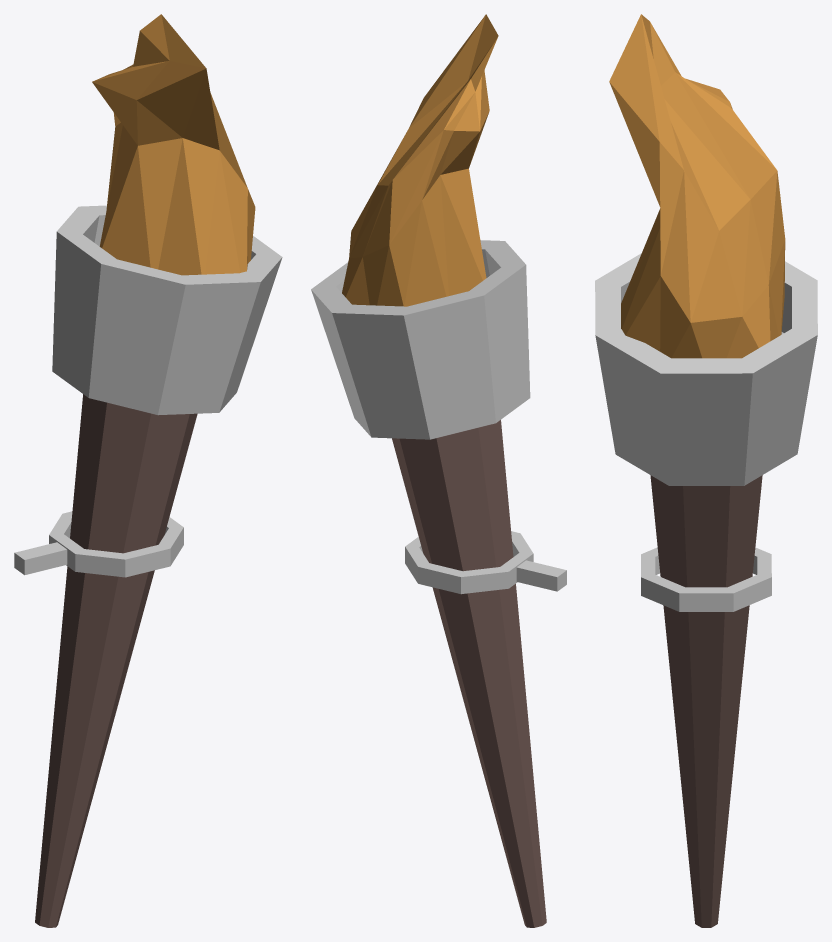
File: torch_mat.fbx
3 renders of one model, left to right at view 1: azimuth 30°, elevation 25°; view 2: azimuth 150°, elevation 25°; view 3: azimuth 270°, elevation 25°, orthographic. The views are drawn at different scales.
Parts seen in each view (by area): view 1: torch_mat; view 2: torch_mat; view 3: torch_mat.
Part boxes in pixels (<box>): torch_mat: <box>14,14,282,927</box>; torch_mat: <box>311,14,566,927</box>; torch_mat: <box>595,14,817,927</box>.
Size of the model in its own units: 86.95 by 315 by 66.76.
